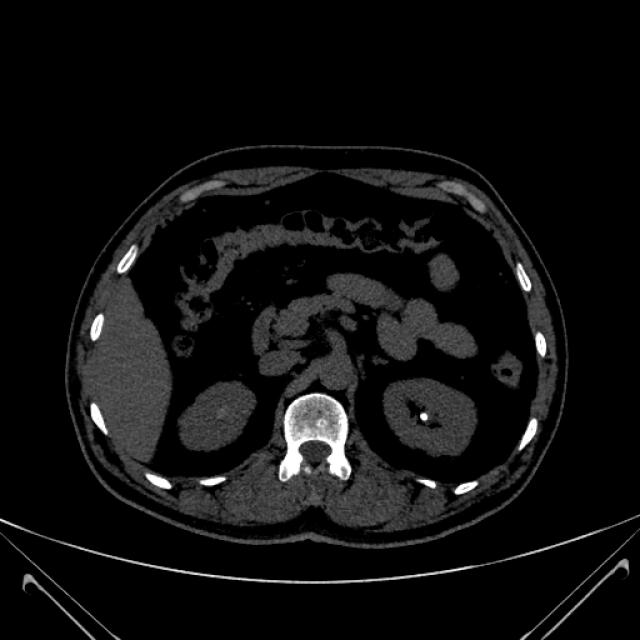kidneystone: (420, 412, 429, 422)
